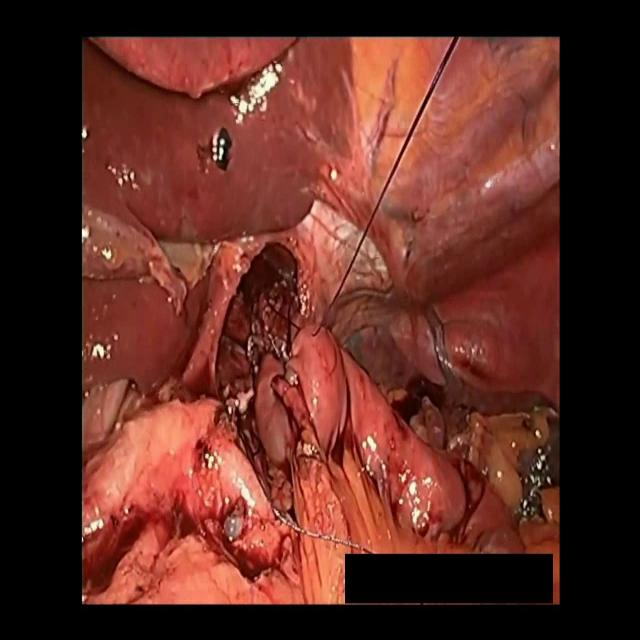surgical-area: (82, 38, 561, 602)
